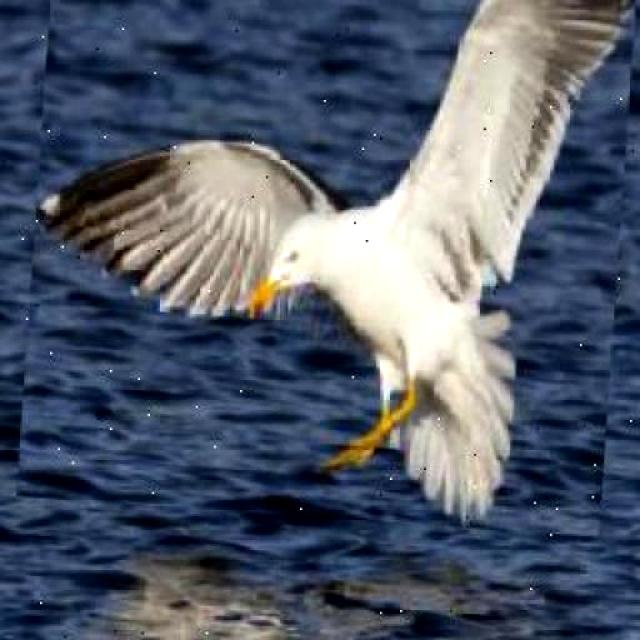airplane: (16, 0, 640, 535)
